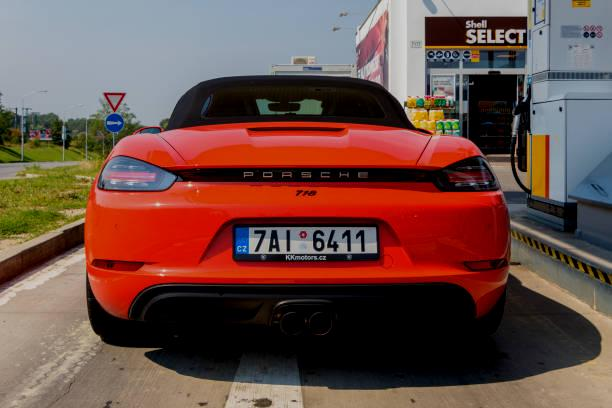porsche: (238, 164, 379, 187)
